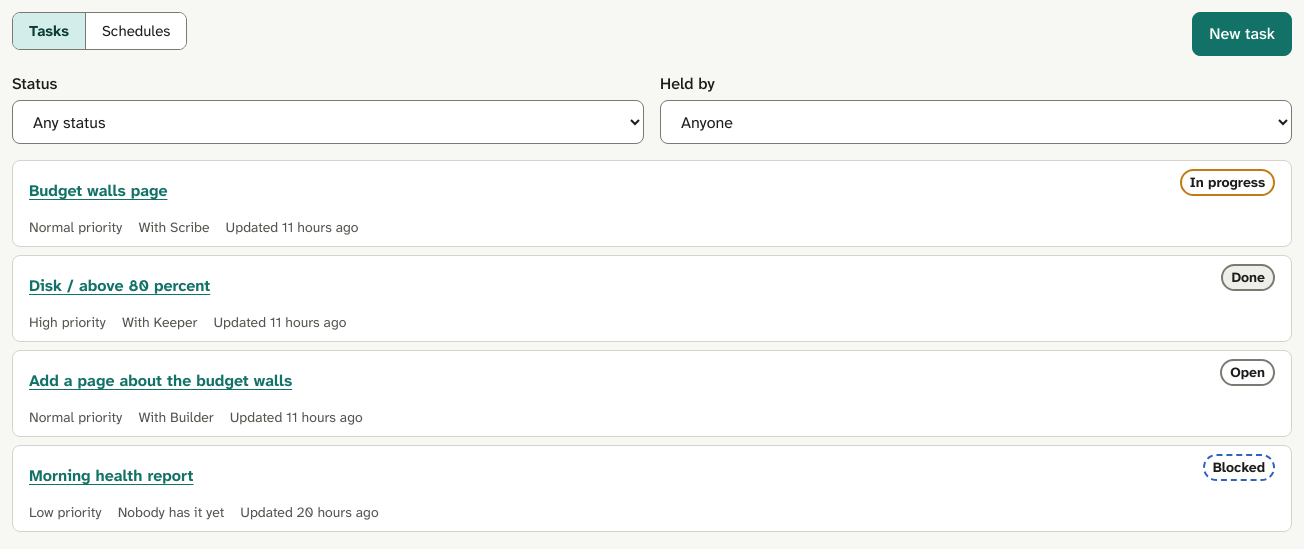
TasksPanel list › filters by status through the daemon
Step 1. Select "Done" in the dropdown labelled "Status" → (328, 122), box [12,100,644,144]
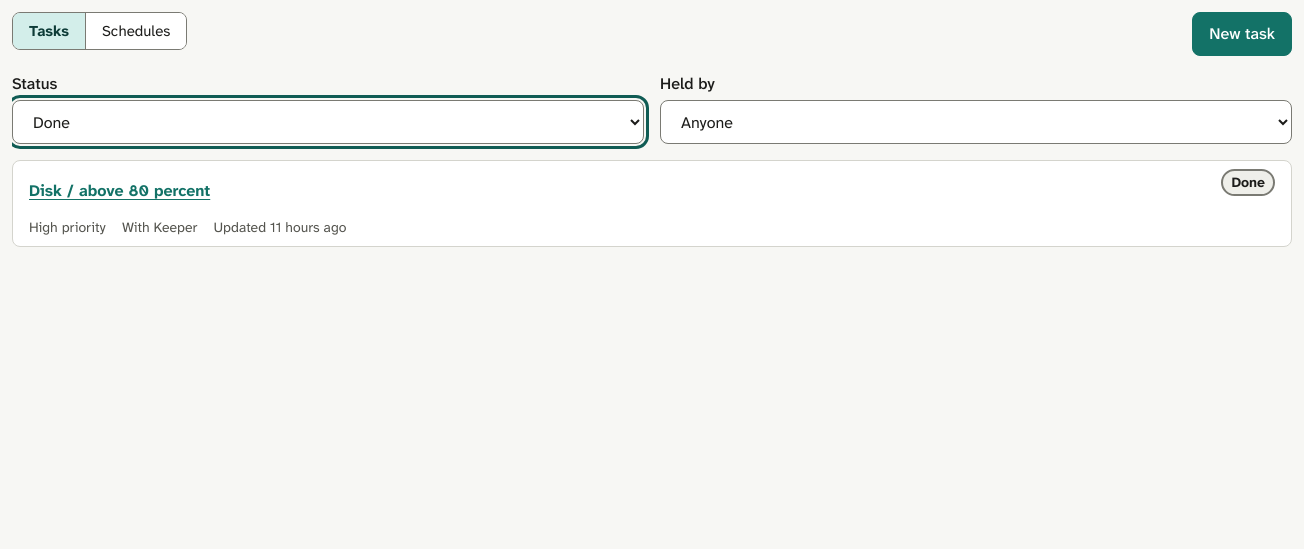
Check: the button "Disk / above 80 percent" is shown, box [29,169,1213,213]
Check: the button "Budget walls page" is gone
